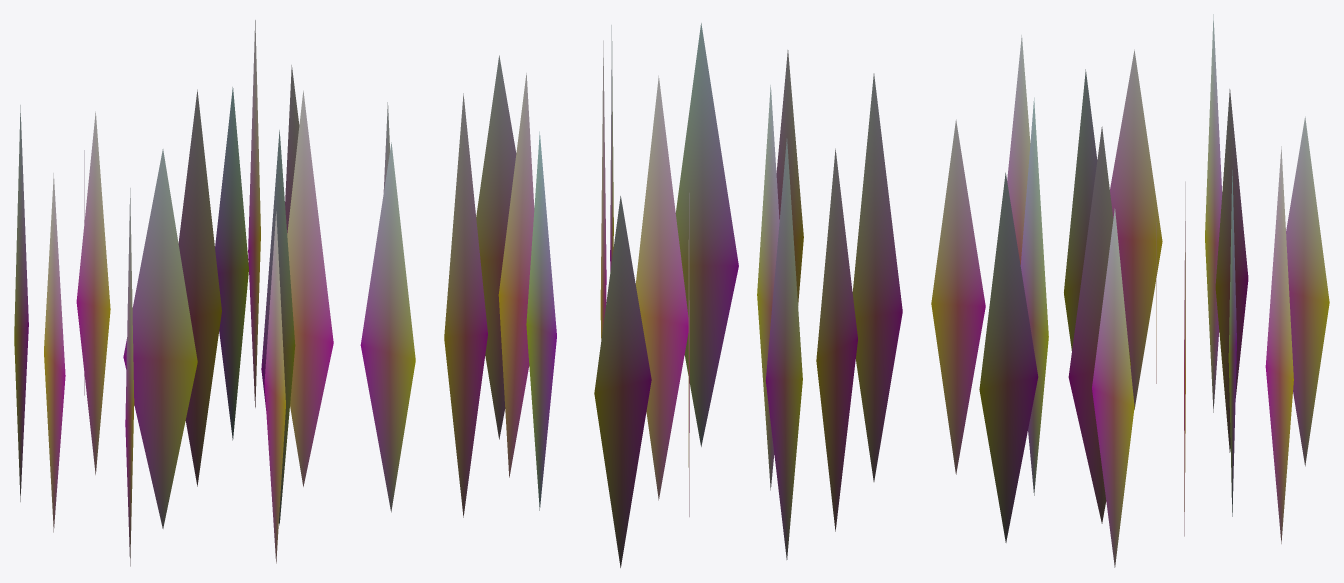
The model's file is mod_grass.fbx.
3 views of the same model, side by side, from view 1: azimuth 30°, elevation 25°; view 2: azimuth 150°, elevation 25°; view 3: azimuth 270°, elevation 25° (orthographic). The views are drawn at different scales.
Parts seen in each view (by area): view 1: grass; view 2: grass; view 3: grass.
Part boxes in pixels (left/top/right/bottom): grass: left=14, top=20, right=415, bottom=566; grass: left=444, top=23, right=902, bottom=567; grass: left=931, top=14, right=1329, bottom=567.
Size of the model in its own units: 83.14 by 91.22 by 82.49.
